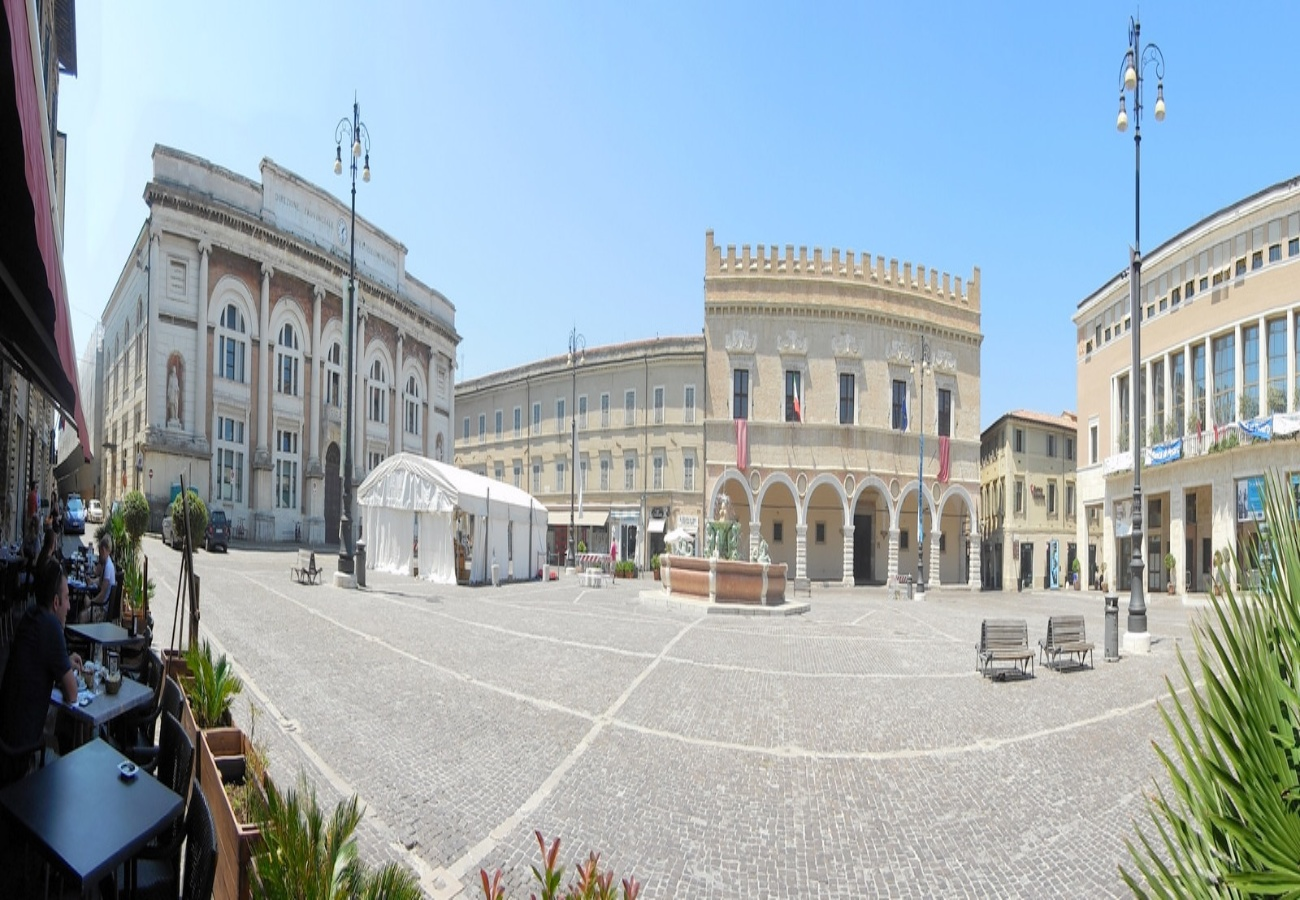Palazzo Comunale: (1071, 175, 1300, 597)
Palazzo Ducale: (702, 225, 987, 591)
Palazzo delle Poste: (154, 134, 455, 567)
